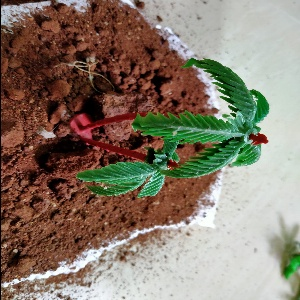plant: (70, 68, 274, 192)
